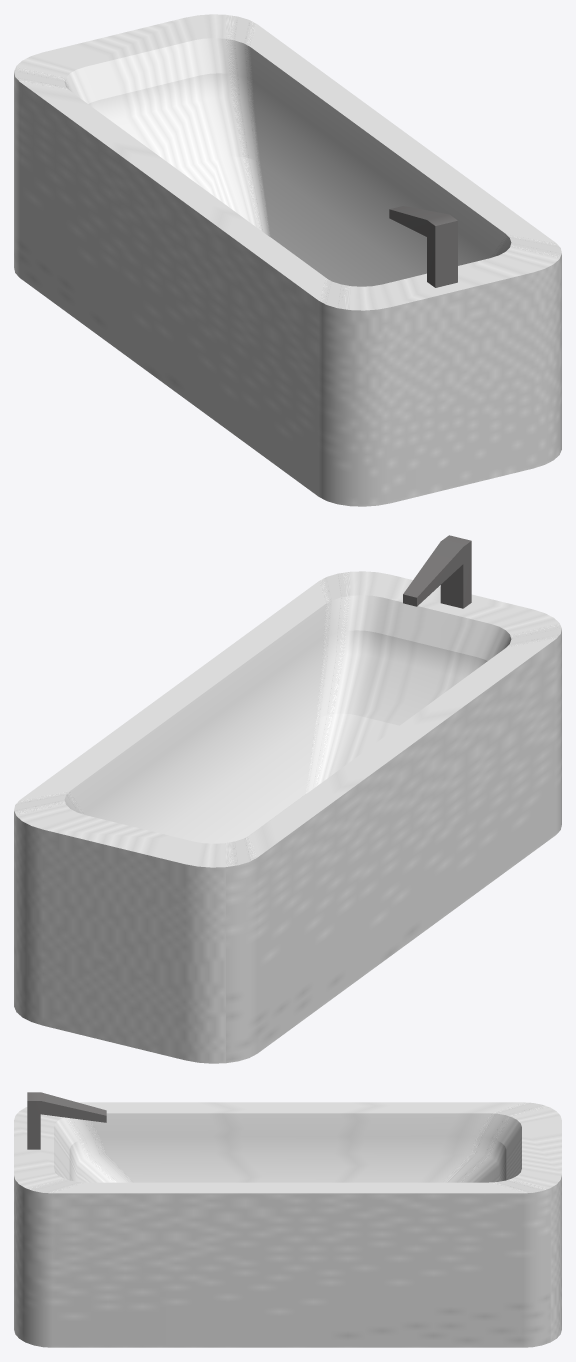
Rendered from Tub.fbx.
3 renders of one model, top to bottom at view 1: azimuth 30°, elevation 25°; view 2: azimuth 150°, elevation 25°; view 3: azimuth 270°, elevation 25°, orthographic. The views are drawn at different scales.
Parts seen in each view (by area): view 1: pCube4, pCube5; view 2: pCube4, pCube5; view 3: pCube4, pCube5.
Part boxes in pixels (box(x1,y1,x2,y2)): pCube4: box(14, 14, 561, 506); pCube5: box(389, 206, 457, 287); pCube4: box(14, 571, 561, 1063); pCube5: box(403, 535, 471, 608); pCube4: box(14, 1102, 561, 1347); pCube5: box(27, 1092, 106, 1149).
Bounding box in the file's own units: 3.12 × 3.25 × 7.94.
Materials: 2 (1 with a texture image).
